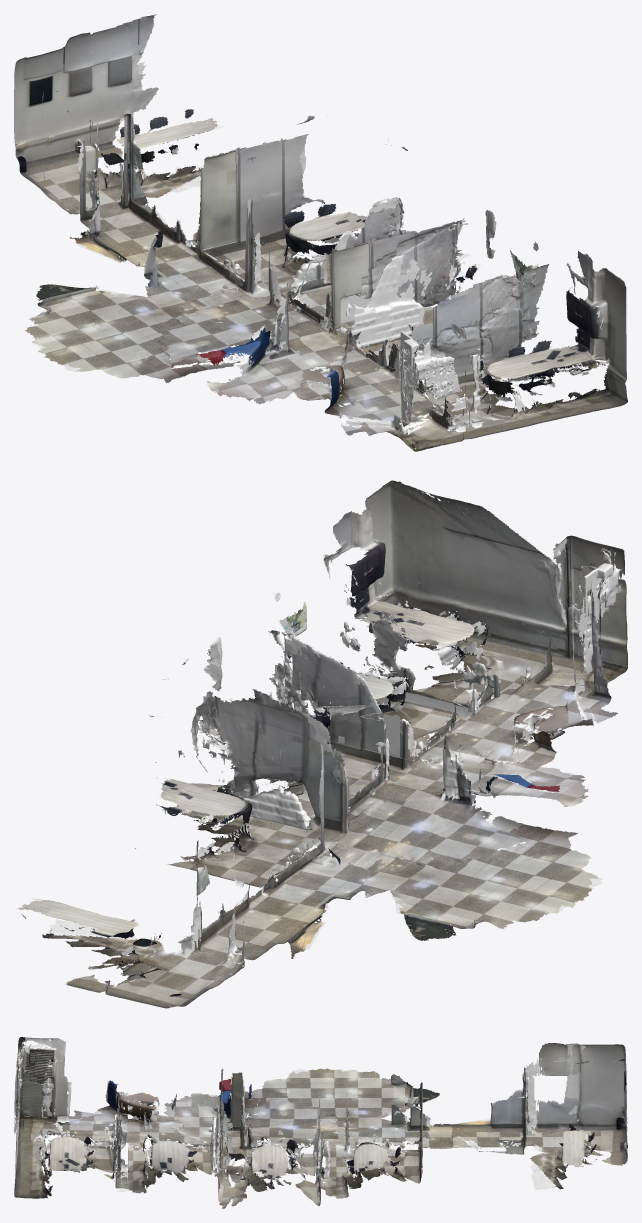
The picture shows the model from 3 angles, top to bottom: view 1: azimuth 30°, elevation 25°; view 2: azimuth 150°, elevation 25°; view 3: azimuth 270°, elevation 25°; orthographic projection. The views are drawn at different scales.
Parts seen in each view (by area): view 1: texture_2, texture_0, object 5, texture_3, texture_7, texture_5, texture_1, texture_4, texture_6, texture_9, texture_8; view 2: texture_1, texture_3, object 5, texture_0, texture_6, texture_7, texture_5, texture_4, texture_2, texture_8, texture_9; view 3: texture_2, object 5, texture_3, texture_0, texture_4, texture_5, texture_6, texture_7, texture_9, texture_1, texture_8.
Boxes of the visible parts, <box> form: texture_2: <box>14,15,203,287</box>; texture_0: <box>70,115,354,327</box>; object 5: <box>33,14,609,448</box>; texture_3: <box>25,261,355,383</box>; texture_7: <box>312,260,627,421</box>; texture_5: <box>164,220,532,395</box>; texture_1: <box>358,251,627,444</box>; texture_4: <box>245,236,493,437</box>; texture_6: <box>212,144,495,330</box>; texture_9: <box>223,210,489,403</box>; texture_8: <box>401,329,466,451</box>; texture_1: <box>333,491,602,714</box>; texture_3: <box>234,739,600,940</box>; object 5: <box>22,482,621,987</box>; texture_0: <box>17,741,421,966</box>; texture_6: <box>156,660,377,858</box>; texture_7: <box>283,480,530,760</box>; texture_5: <box>223,601,588,862</box>; texture_4: <box>221,645,617,805</box>; texture_2: <box>22,840,362,1008</box>; texture_8: <box>561,535,627,682</box>; texture_9: <box>155,566,588,796</box>; texture_2: <box>391,1043,627,1189</box>; object 5: <box>14,1037,627,1196</box>; texture_3: <box>173,1068,439,1153</box>; texture_0: <box>270,1082,584,1183</box>; texture_4: <box>47,1076,324,1202</box>; texture_5: <box>140,1068,308,1193</box>; texture_6: <box>218,1088,393,1205</box>; texture_7: <box>14,1096,188,1197</box>; texture_9: <box>19,1058,297,1208</box>; texture_1: <box>14,1079,121,1198</box>; texture_8: <box>14,1037,64,1133</box>.
Size of the model in its own units: 9 by 2.94 by 15.95.
Materials: 11 (10 with a texture image).
